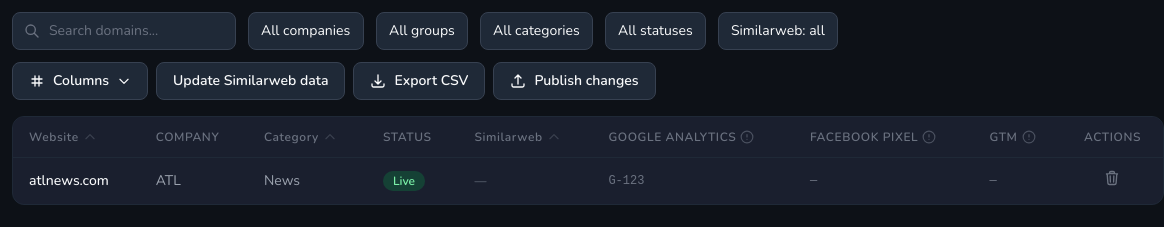
Test case: SitesTable inline editing: category and tracking › category: pick from the network's categories and save it to the site
Click the button with aria-label "Change category for atl-news" at (282, 181), box x1=264 y1=171 x2=300 y2=191
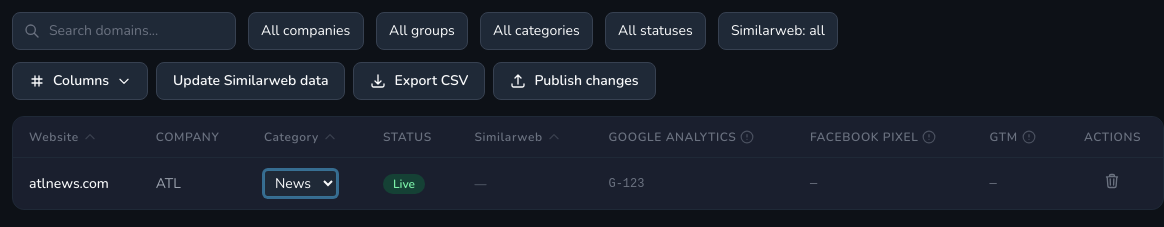
Select "Travel" in the dropdown named "Category for atl-news" at (300, 184), box x1=264 y1=170 x2=337 y2=197
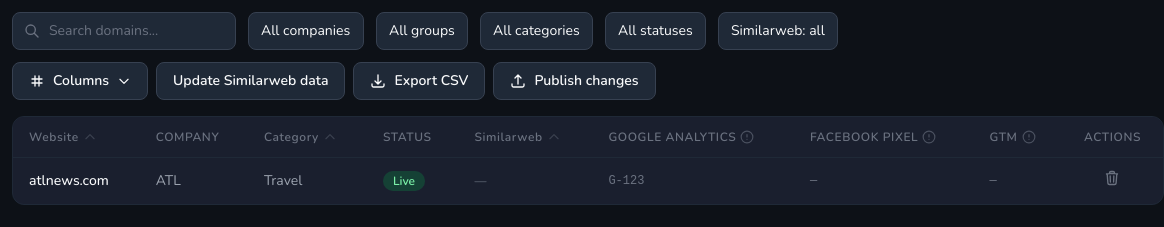
Expected: the button with aria-label "Change category for atl-news" reads "Travel", x1=264 y1=171 x2=302 y2=191
